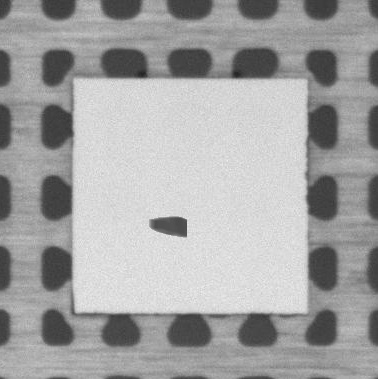DIE_INK: (147, 214, 191, 241)
